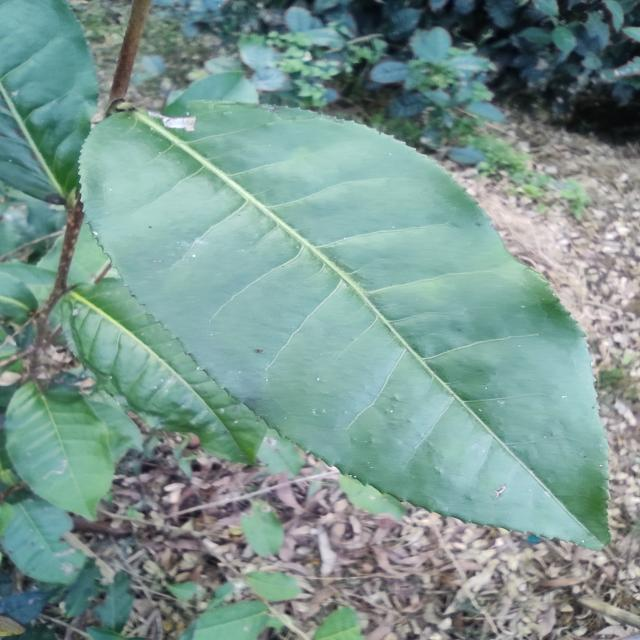Category D(7+ days, Not for Tea): (57, 96, 624, 557)
